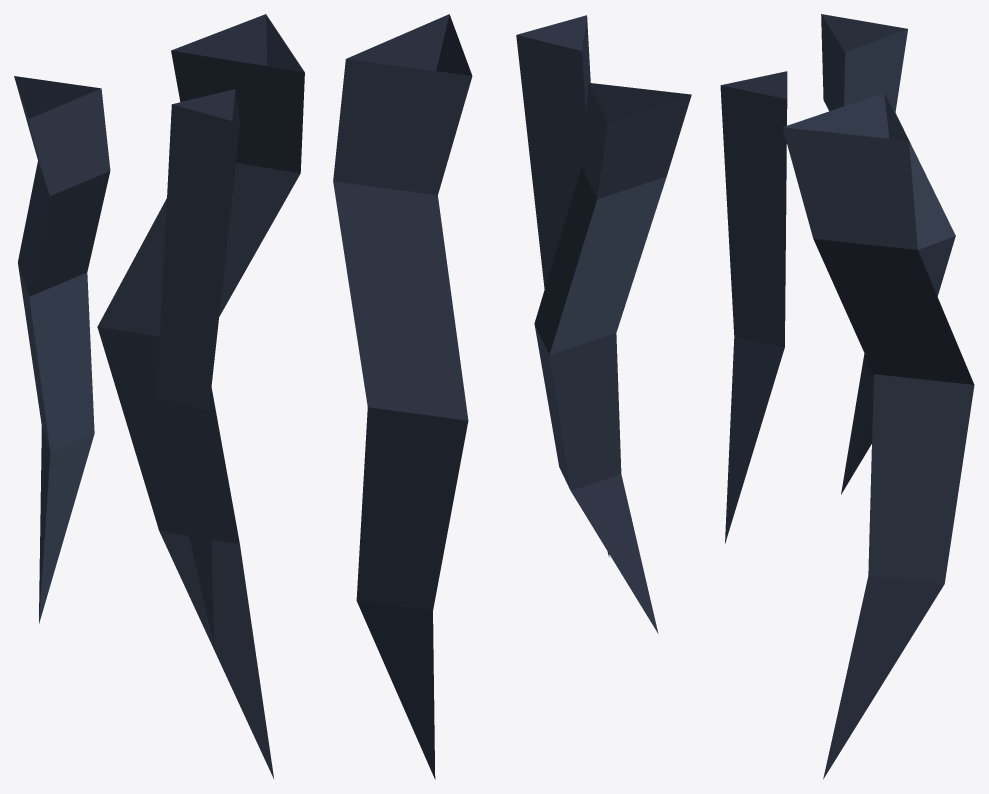
Rendered from sp_plant09.glb.
3 views of the same model, side by side, from view 1: azimuth 30°, elevation 25°; view 2: azimuth 150°, elevation 25°; view 3: azimuth 270°, elevation 25° (orthographic). The views are drawn at different scales.
Parts seen in each view (by area): view 1: SP_Plant09; view 2: SP_Plant09; view 3: SP_Plant09.
Boxes of the visible parts, x1,y1,x2,y2 form: SP_Plant09: (14, 14, 304, 778); SP_Plant09: (333, 14, 691, 779); SP_Plant09: (720, 14, 974, 779).
Size of the model in its own units: 16.4 by 38.55 by 13.52.
Materials: 1 (1 with a texture image).
